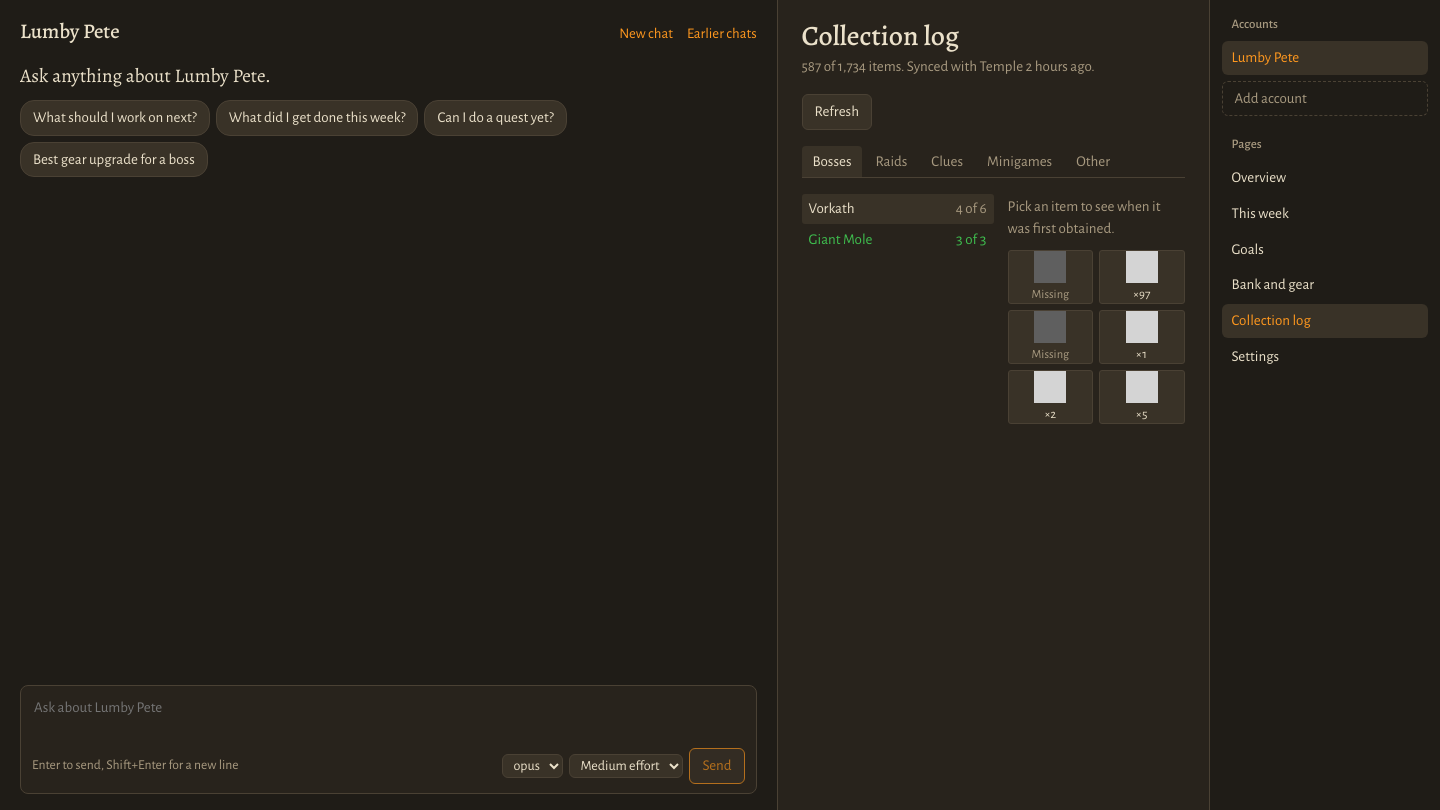
Test: CollectionLog › says when a selected item was first obtained, in the settings time zone
Click the button named "Vorkath's head": (1142, 277) [1099, 250, 1185, 304]
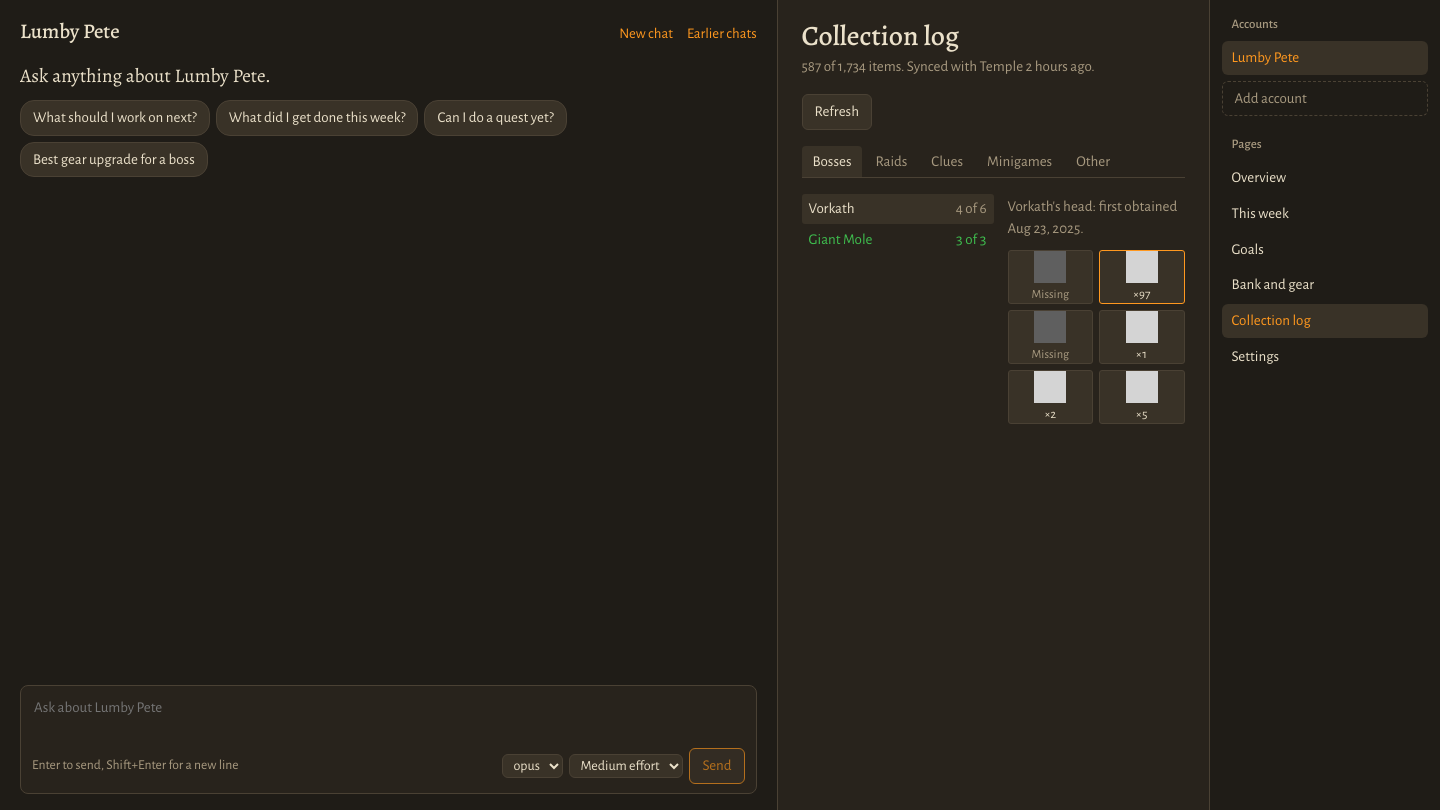
expect the text "Vorkath's head: first obtained Aug 23, 2025." is shown: met, box [1008, 194, 1185, 242]
Click the button with aria-label "Vorki": (1050, 277) [1008, 250, 1093, 304]
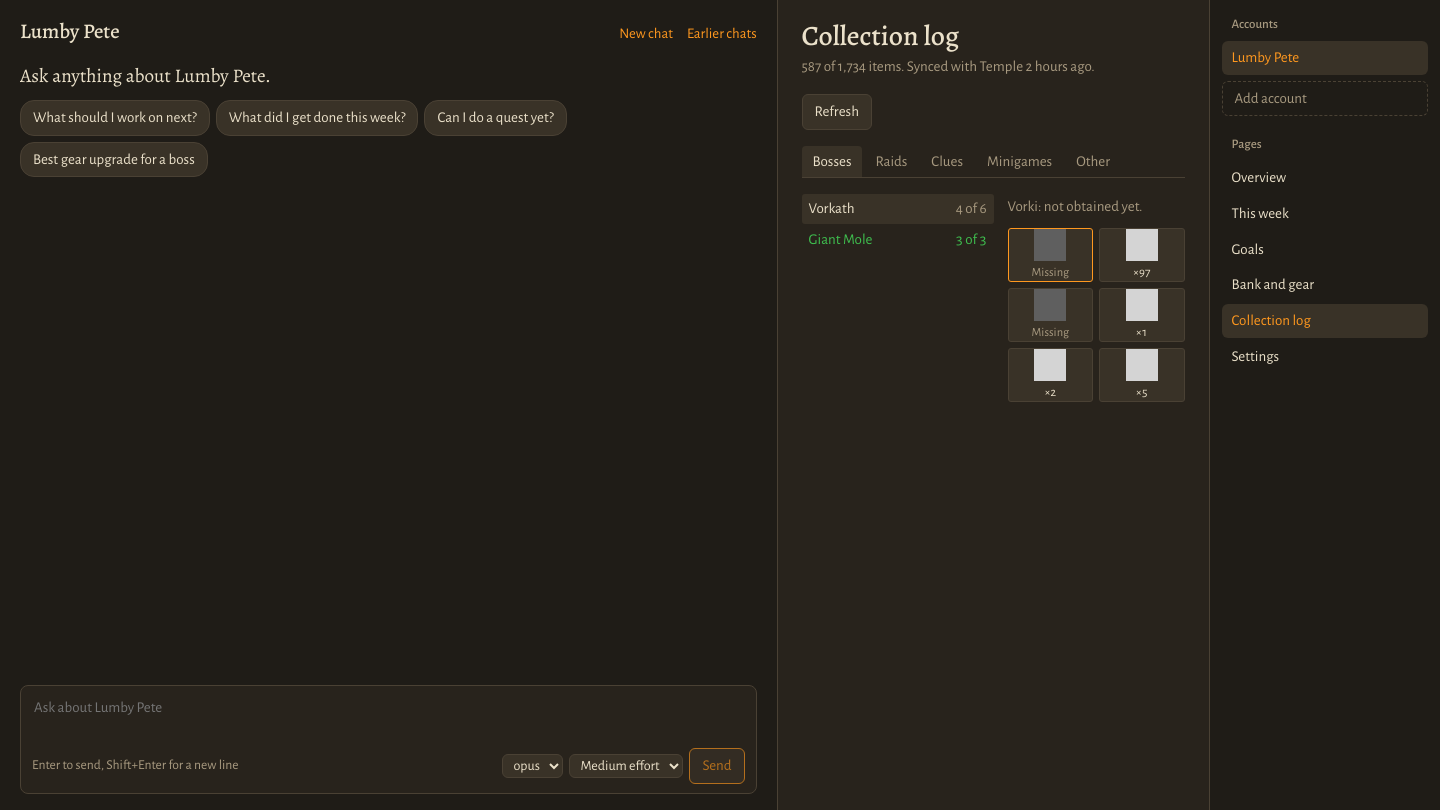
expect the text "Vorki: not obtained yet." is shown: met, box [1008, 194, 1185, 220]
